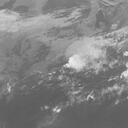cyclone: (24, 37, 101, 103)
